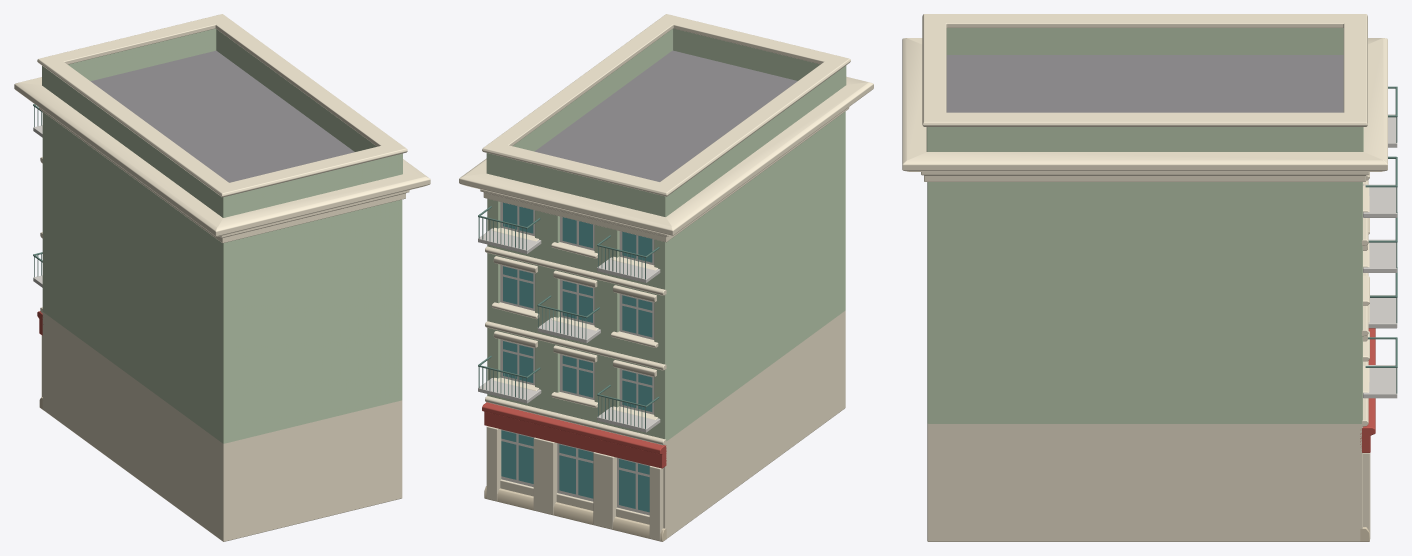
The model's file is far_shophouse_sage_3.glb.
3 views of the same model, side by side, from view 1: azimuth 30°, elevation 25°; view 2: azimuth 150°, elevation 25°; view 3: azimuth 270°, elevation 25° (orthographic). The views are drawn at different scales.
Parts seen in each view (by area): view 1: shell, trim; view 2: shell, trim, props, frames; view 3: shell, trim, props.
Part boxes in pixels (<box>): shell: <box>42,50,402,541</box>; trim: <box>14,14,430,410</box>; shell: <box>487,50,845,538</box>; trim: <box>459,14,873,541</box>; props: <box>478,206,660,432</box>; frames: <box>500,202,654,515</box>; shell: <box>927,55,1362,541</box>; trim: <box>902,14,1387,541</box>; props: <box>1363,86,1397,398</box>.
Bounding box in the file's own units: 9.6 × 14.95 × 15.91.
